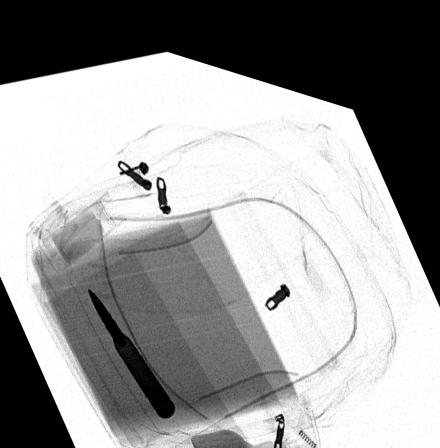Bullet: (86, 281, 178, 409)
